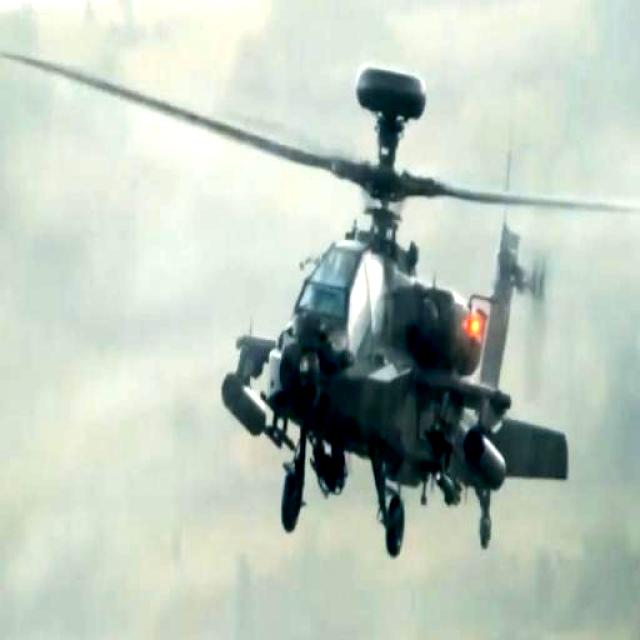drone: (0, 34, 640, 576)
